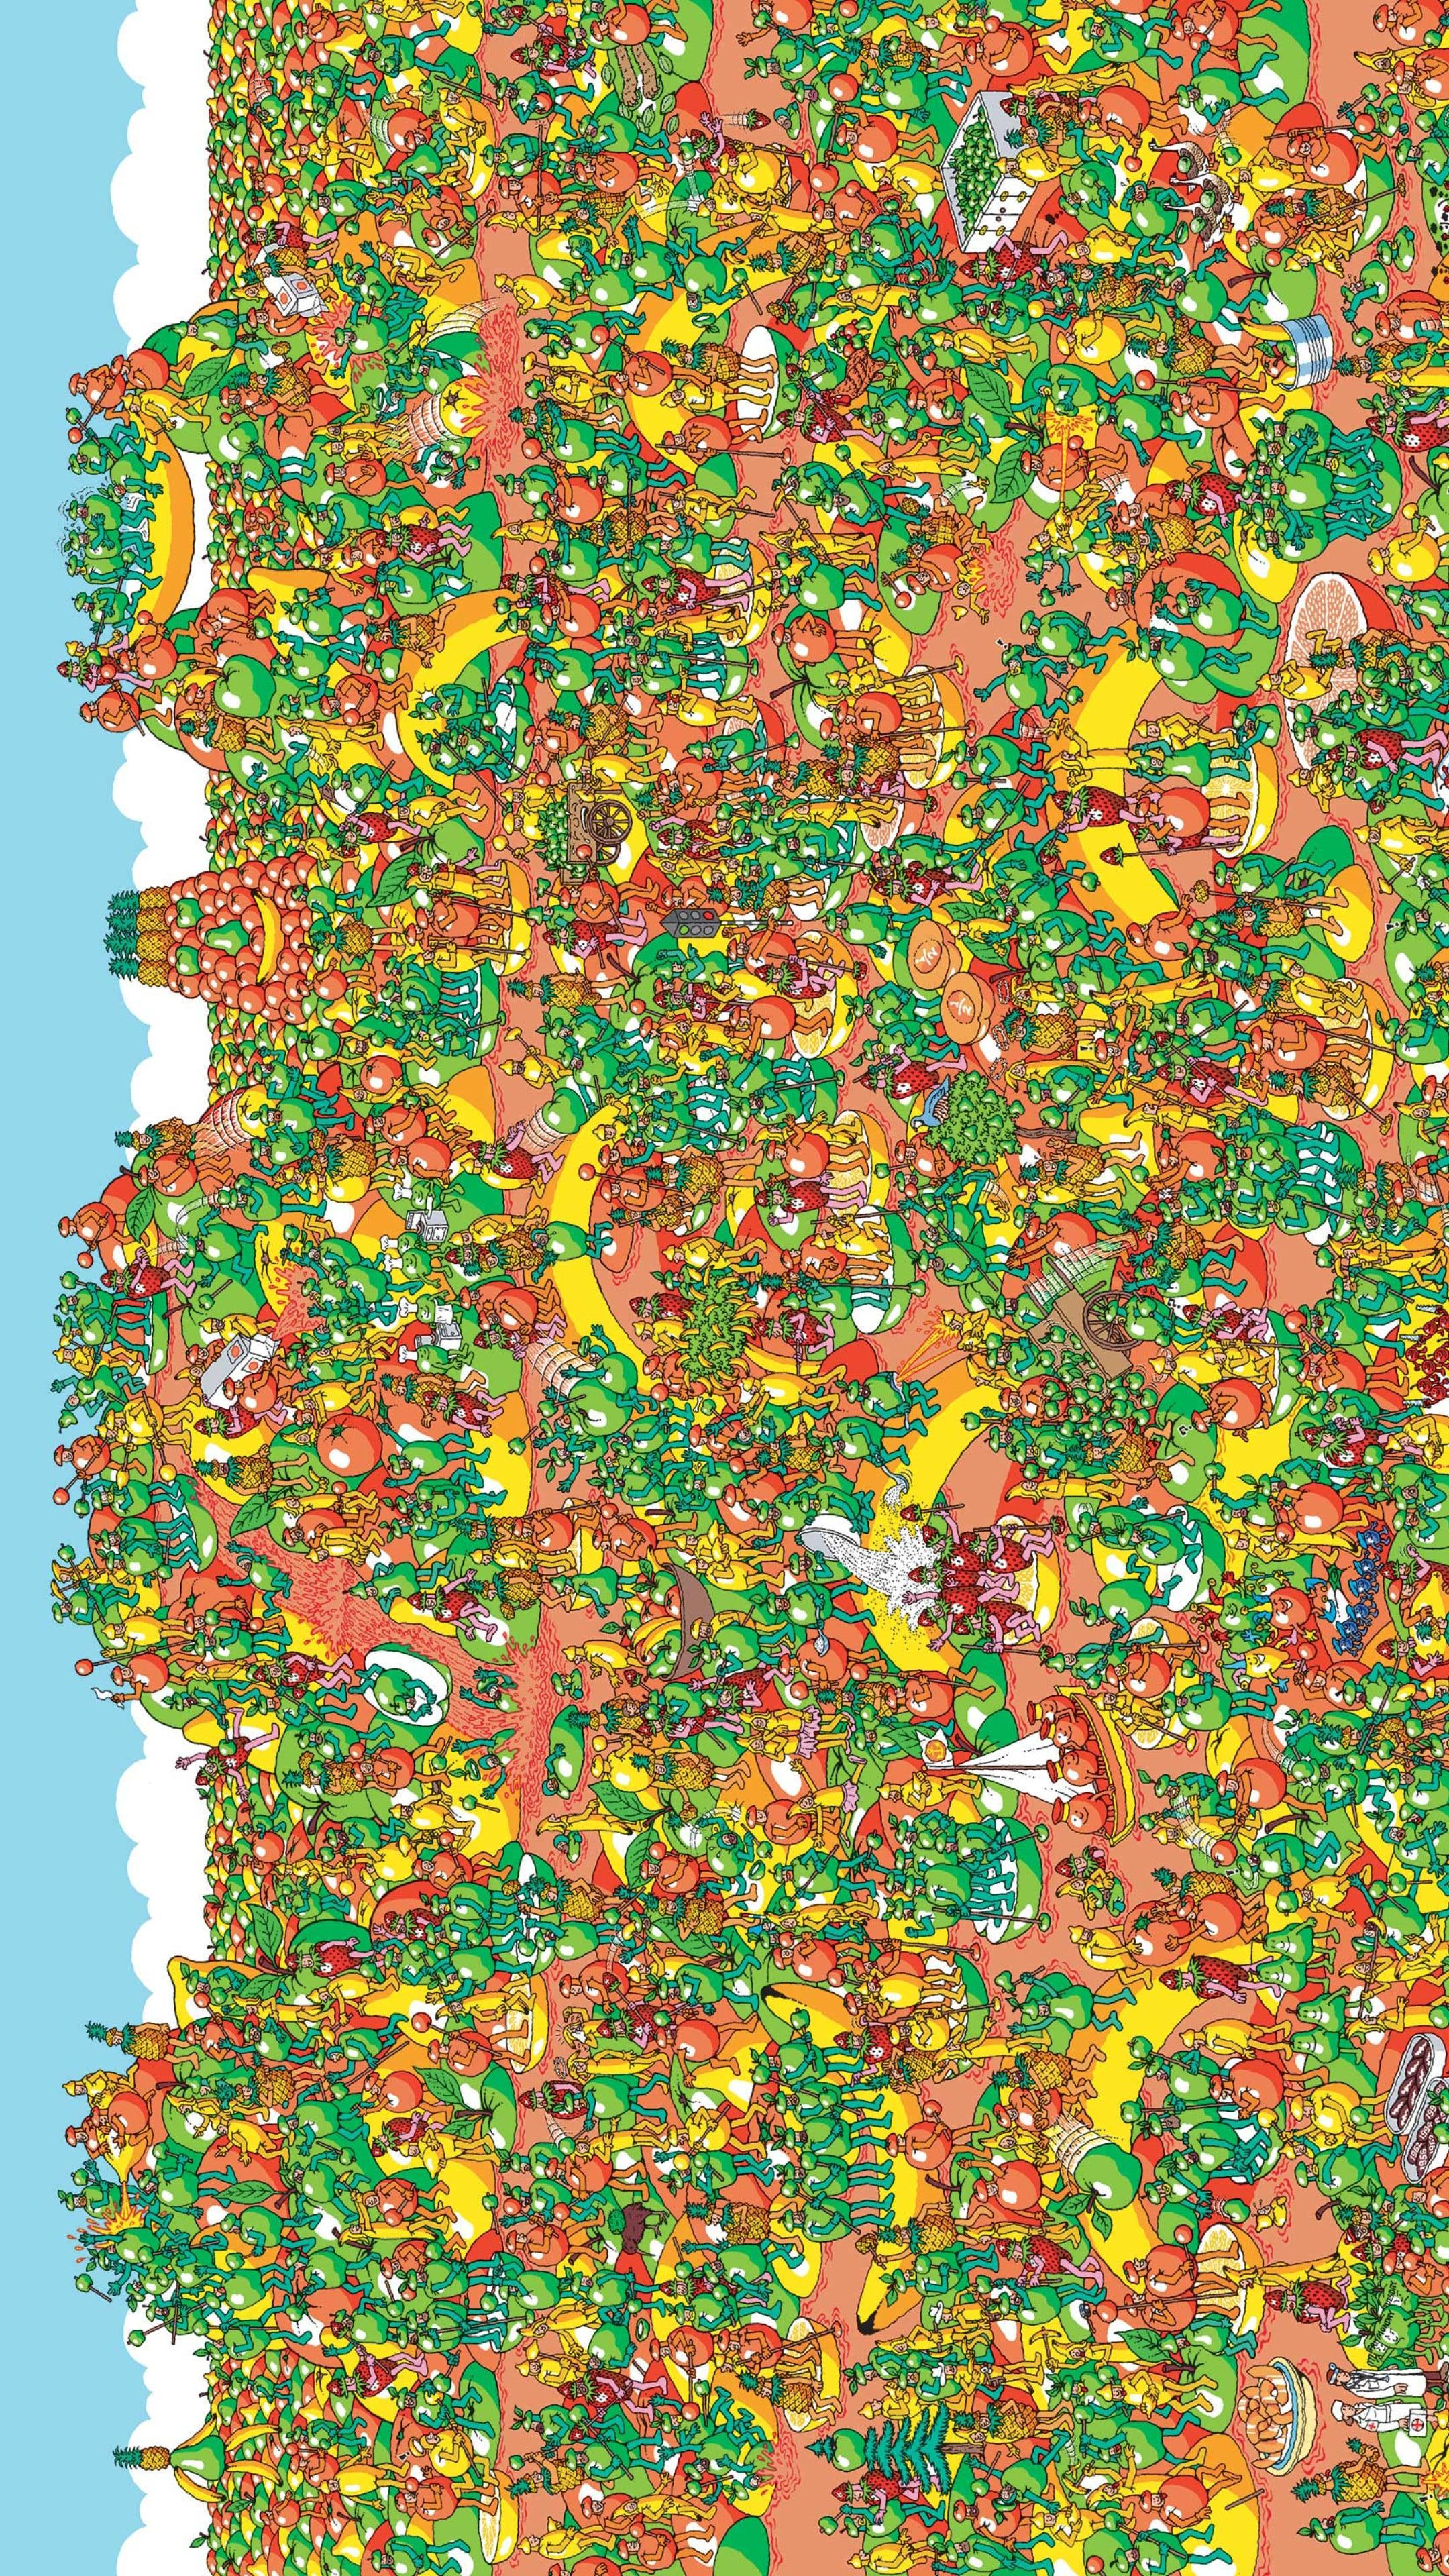waldos: (1039, 269, 1069, 292)
